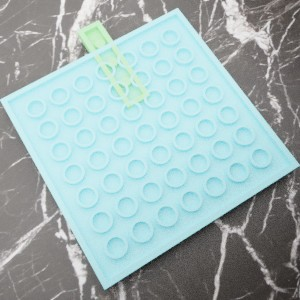lego: (0, 7, 299, 290), (77, 20, 150, 112)
